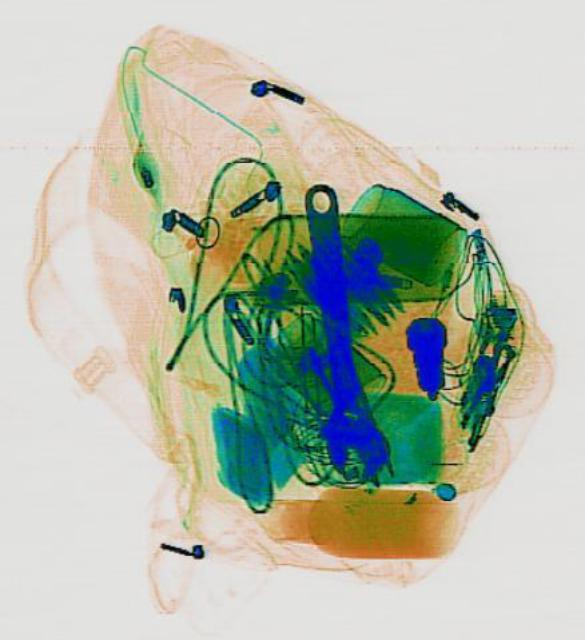Wrench: (288, 178, 391, 482)
